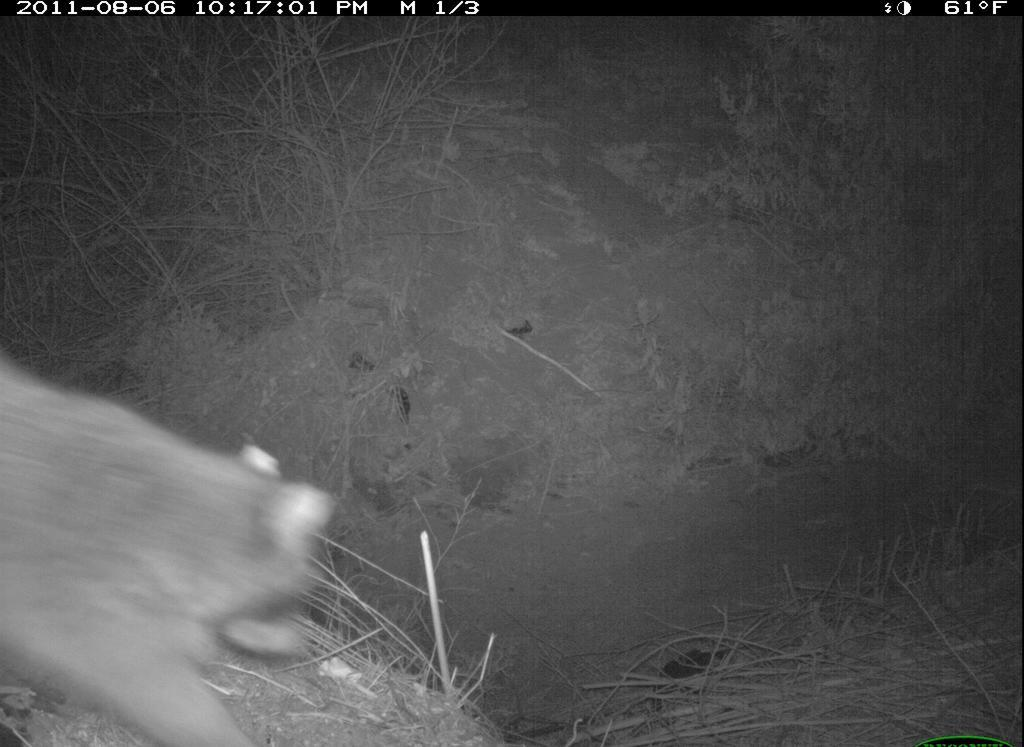raccoon: (2, 365, 373, 747)
